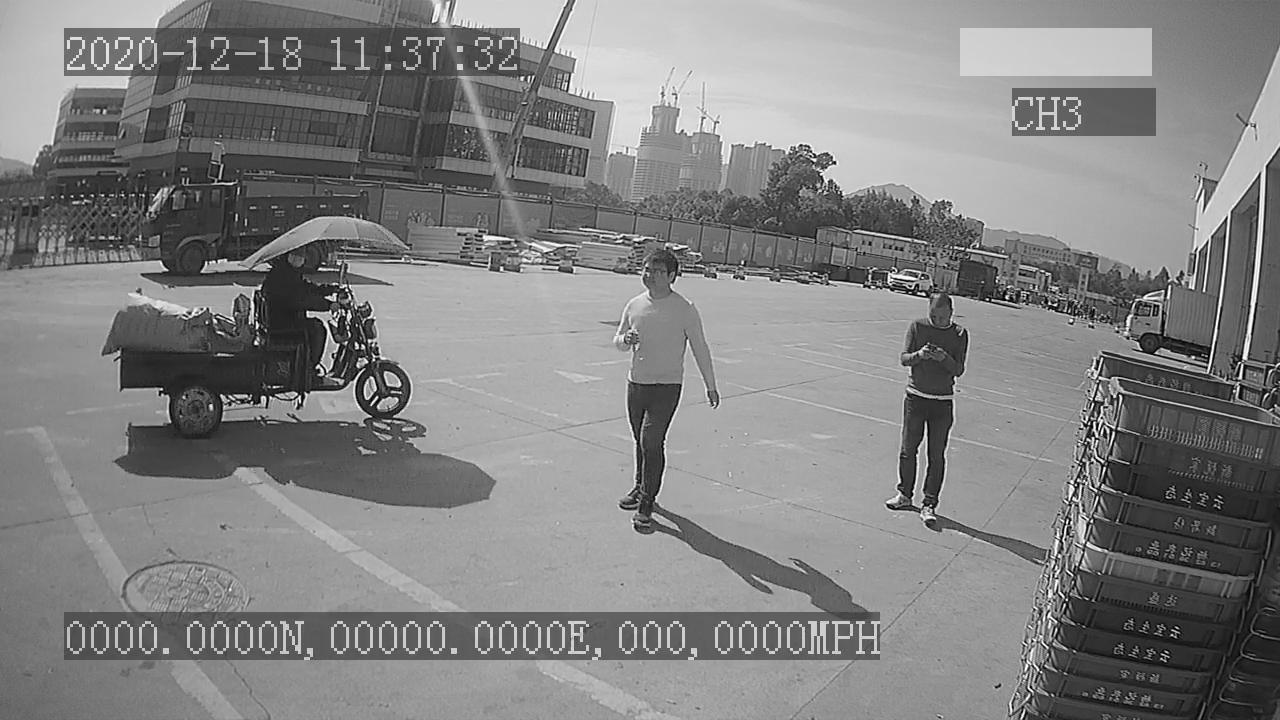person: (610, 251, 722, 531), (886, 288, 973, 533)
